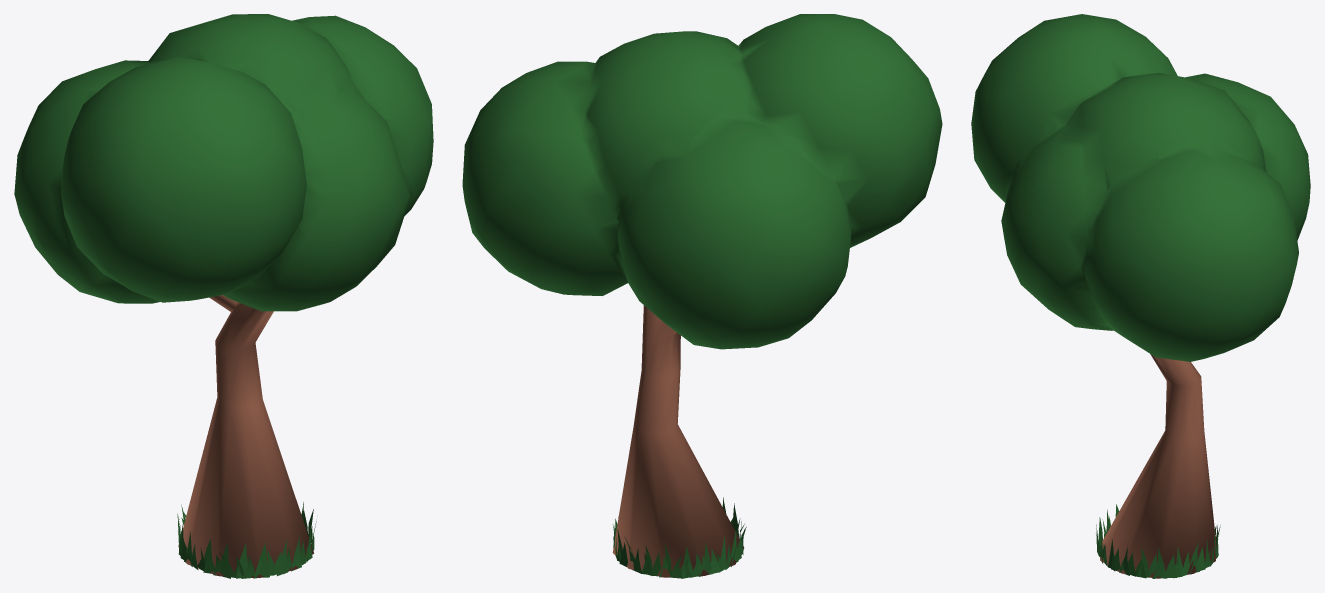
Rendered from tree2.fbx.
The picture shows the model from 3 angles, left to right: view 1: azimuth 30°, elevation 25°; view 2: azimuth 150°, elevation 25°; view 3: azimuth 270°, elevation 25°; orthographic projection. The views are drawn at different scales.
Parts seen in each view (by area): view 1: leaves, trunk, grass; view 2: leaves, trunk, grass; view 3: leaves, trunk, grass.
Part boxes in pixels (x1,y1,x2,y2): leaves: [14, 14, 433, 311]; trunk: [178, 295, 313, 577]; grass: [177, 502, 316, 578]; leaves: [462, 14, 942, 349]; trunk: [612, 305, 744, 577]; grass: [612, 497, 746, 578]; leaves: [971, 14, 1310, 361]; trunk: [1100, 354, 1216, 578]; grass: [1096, 504, 1220, 578].
Bounding box in the file's own units: 609 × 782 × 498.
